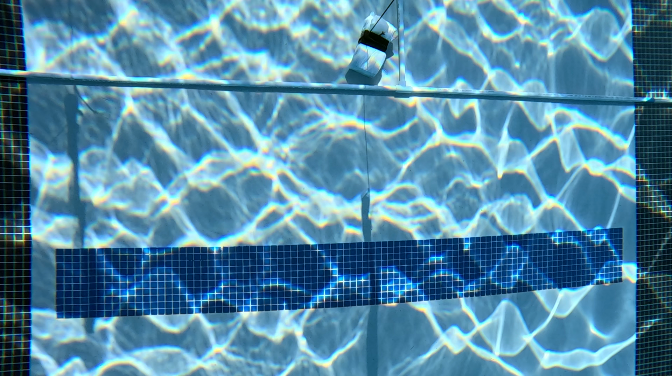sandbag: (349, 14, 396, 77)
